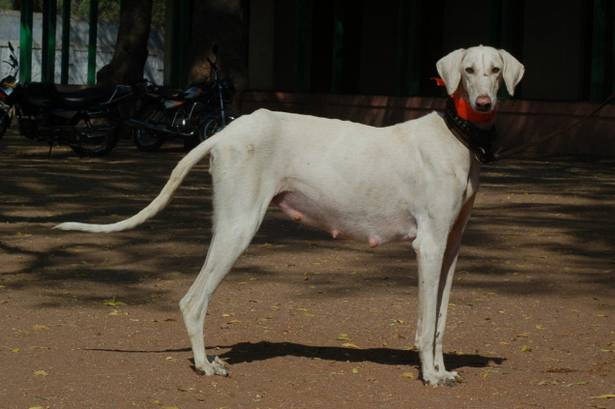dog: (62, 46, 528, 379)
